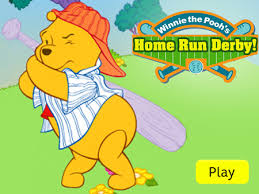Winnie: (29, 7, 105, 97)
